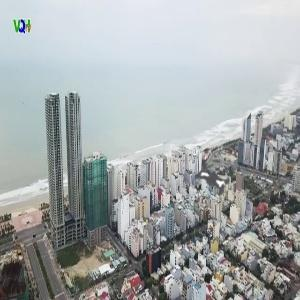drone: (169, 135, 256, 222)
